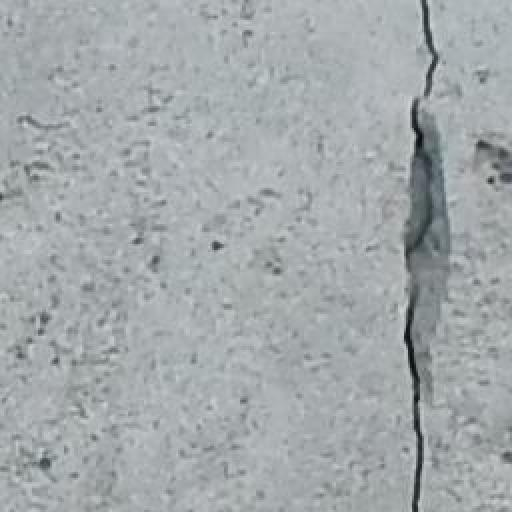spalling: (392, 4, 457, 503)
